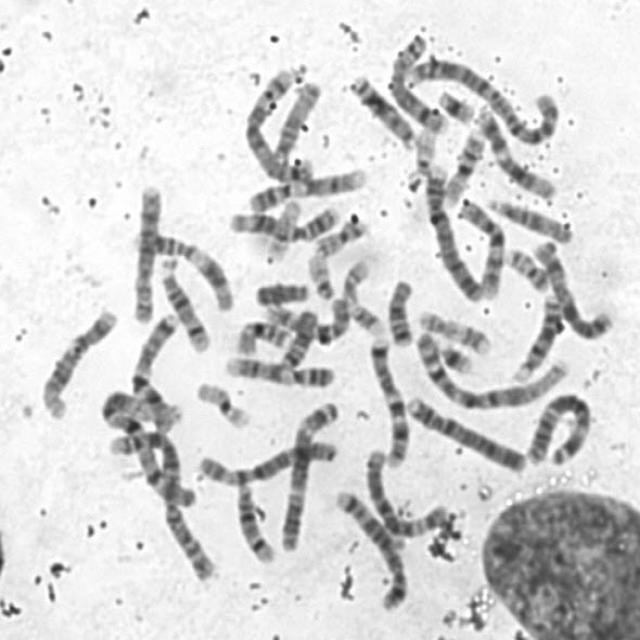A1: (411, 325, 573, 411), (106, 390, 200, 512)
A2: (95, 428, 218, 584), (405, 52, 562, 145)
A3: (275, 394, 344, 554), (518, 385, 596, 468)
B4: (400, 389, 530, 474), (420, 158, 487, 304)
B5: (331, 484, 411, 612), (240, 64, 318, 185)
C10: (452, 193, 509, 302), (259, 291, 354, 345)
C11: (128, 225, 236, 313), (224, 200, 340, 242)
C12: (36, 302, 118, 421), (471, 101, 560, 201)
C6: (360, 441, 455, 539), (193, 434, 340, 488)
C7: (125, 308, 183, 433), (363, 331, 412, 469)
C8: (384, 29, 451, 135), (128, 178, 165, 324)
C9: (245, 162, 368, 214), (219, 350, 337, 390)
D13: (346, 67, 419, 152), (509, 289, 565, 383)
D14: (154, 254, 213, 354), (230, 477, 278, 564)
D15: (268, 74, 323, 164), (484, 192, 575, 245)
E16: (440, 123, 487, 206), (230, 313, 294, 357)
E17: (413, 302, 496, 357), (339, 254, 386, 336)
E18: (274, 304, 320, 370), (383, 272, 416, 348)
F19: (191, 376, 253, 430), (262, 194, 304, 262)
F20: (310, 212, 371, 258), (500, 240, 551, 292)
G21: (433, 83, 477, 126), (434, 336, 476, 376)
G22: (302, 248, 338, 301), (409, 122, 438, 178)
X: (529, 235, 616, 341)
Y: (250, 275, 314, 308)
